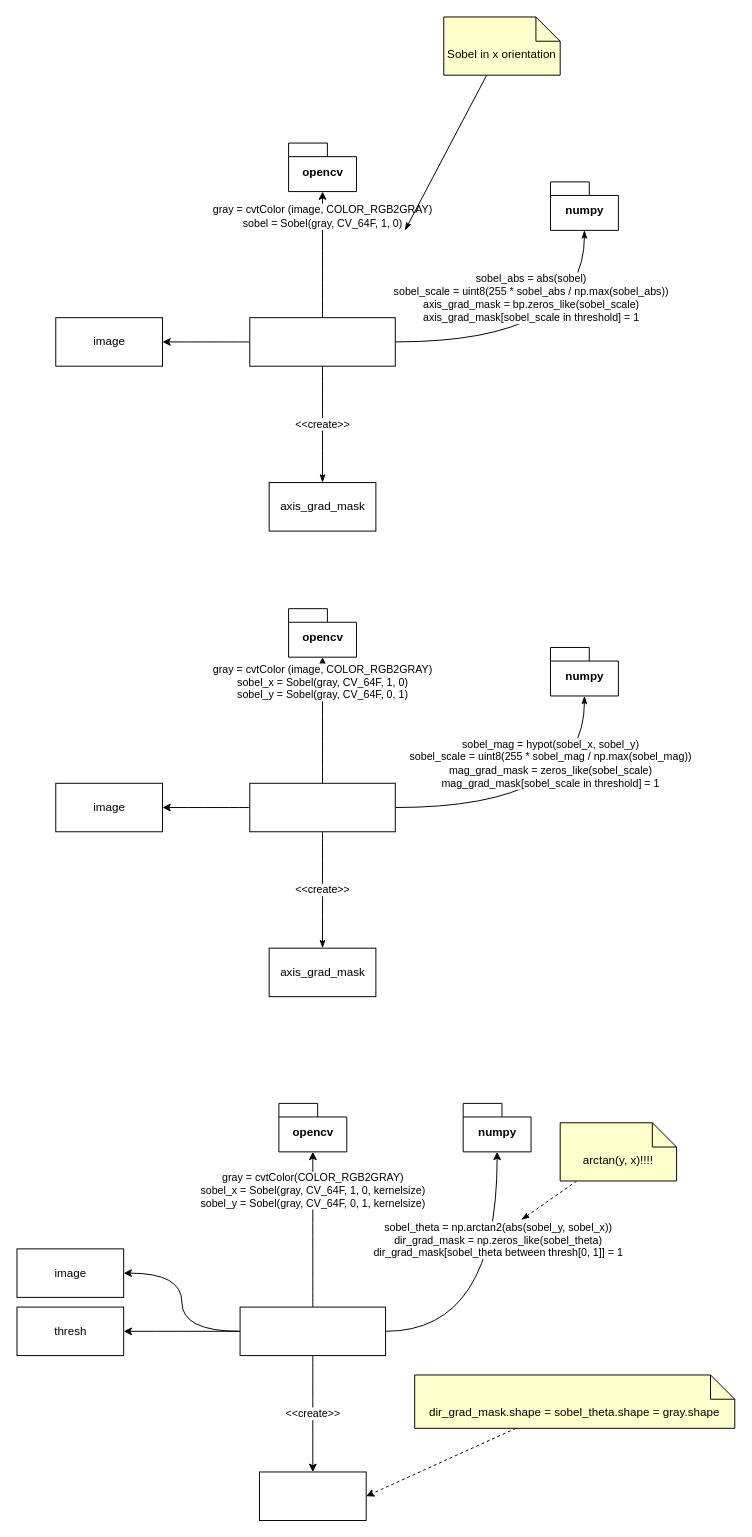
Image size: 752x1537. Some labels were removed from this diagram. Here are the shapes that lost their labels. From the top down, the box of each, then its label:
(249, 317, 395, 366): axis_grad_mask_creator
(249, 782, 395, 832): mag_grad_mask_creator
(239, 1306, 386, 1356): dir_grad_mask_creator
(259, 1471, 366, 1520): dir_grad_mask
